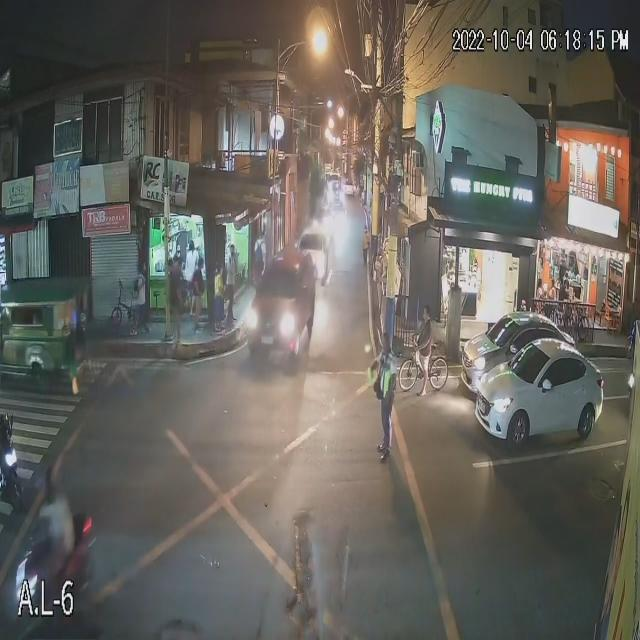motorcycle: (14, 558, 95, 620), (0, 412, 21, 504)
rider: (44, 509, 75, 590)
